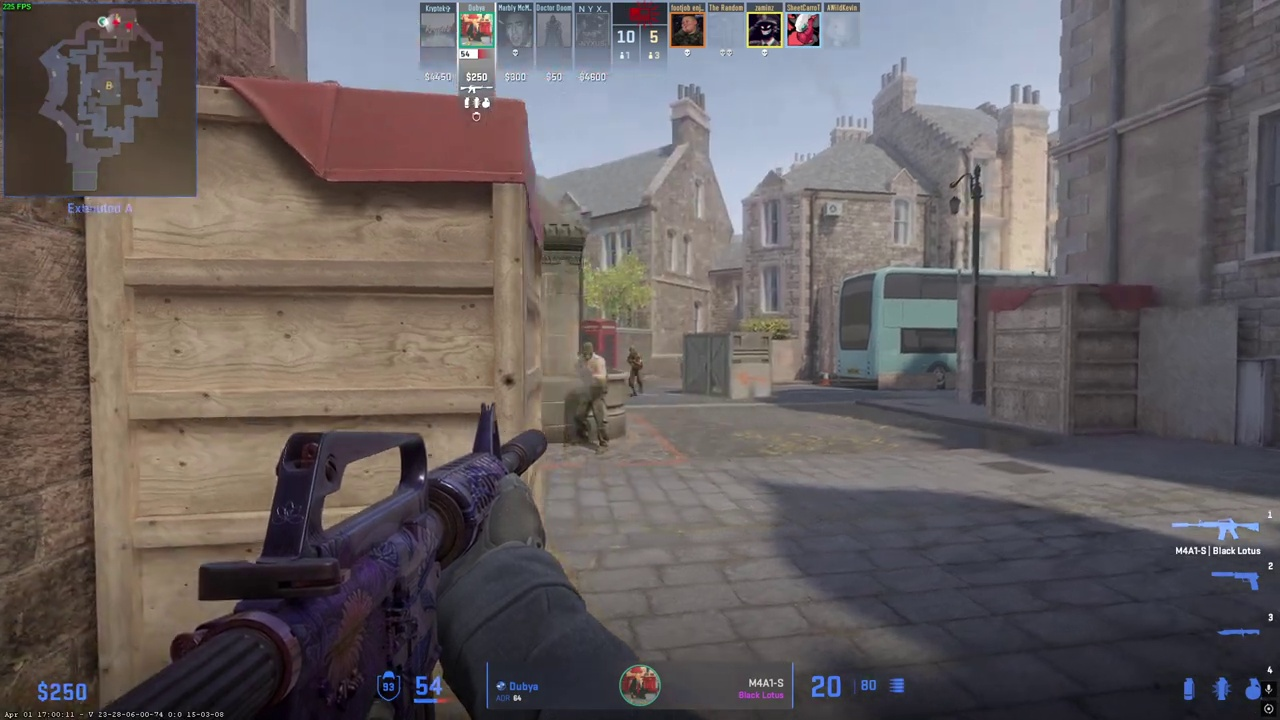Terrorist: (570, 340, 612, 450), (626, 348, 643, 396)
